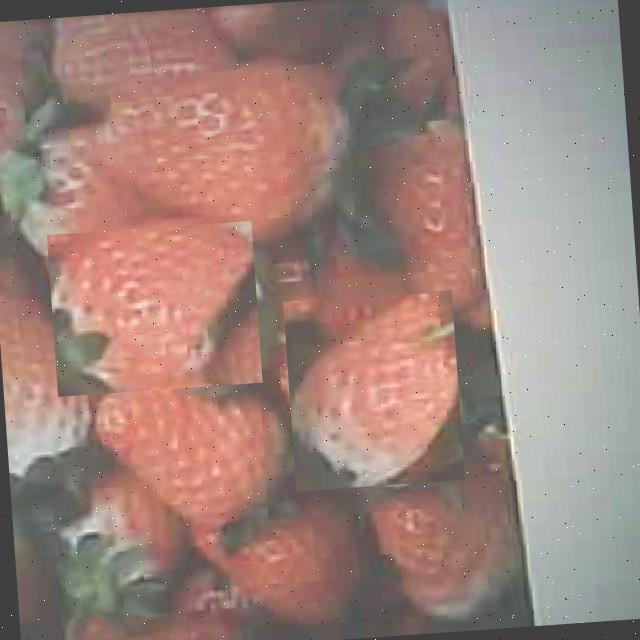ripe: (107, 60, 346, 246), (48, 220, 264, 397), (284, 290, 466, 491), (95, 374, 290, 534)
